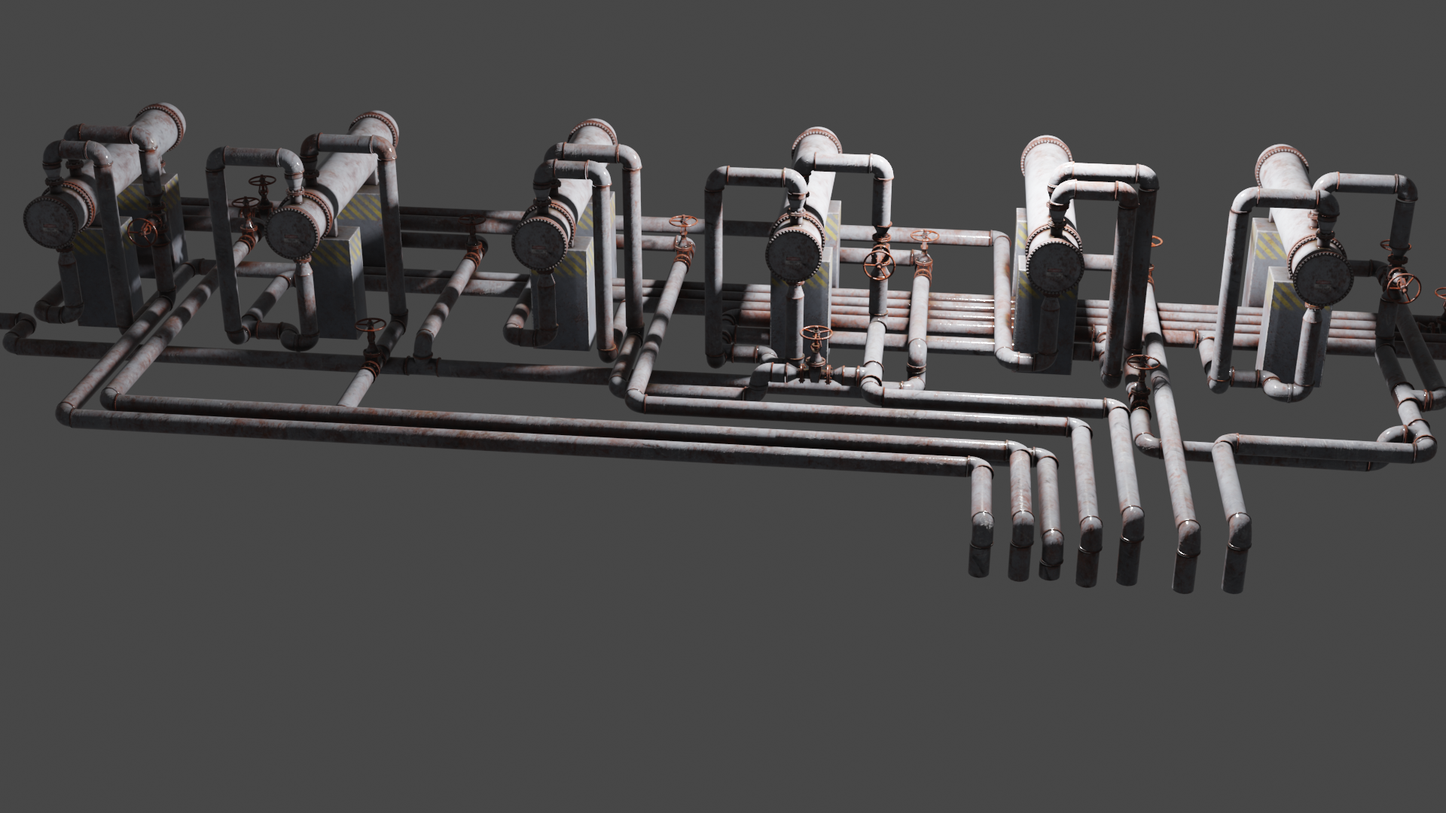HE_1: (19, 97, 189, 247)
HE_2: (267, 109, 403, 259)
HE_3: (514, 113, 618, 267)
HE_4: (769, 127, 838, 280)
HE_5: (1016, 135, 1084, 290)
HE_6: (1252, 141, 1352, 300)
